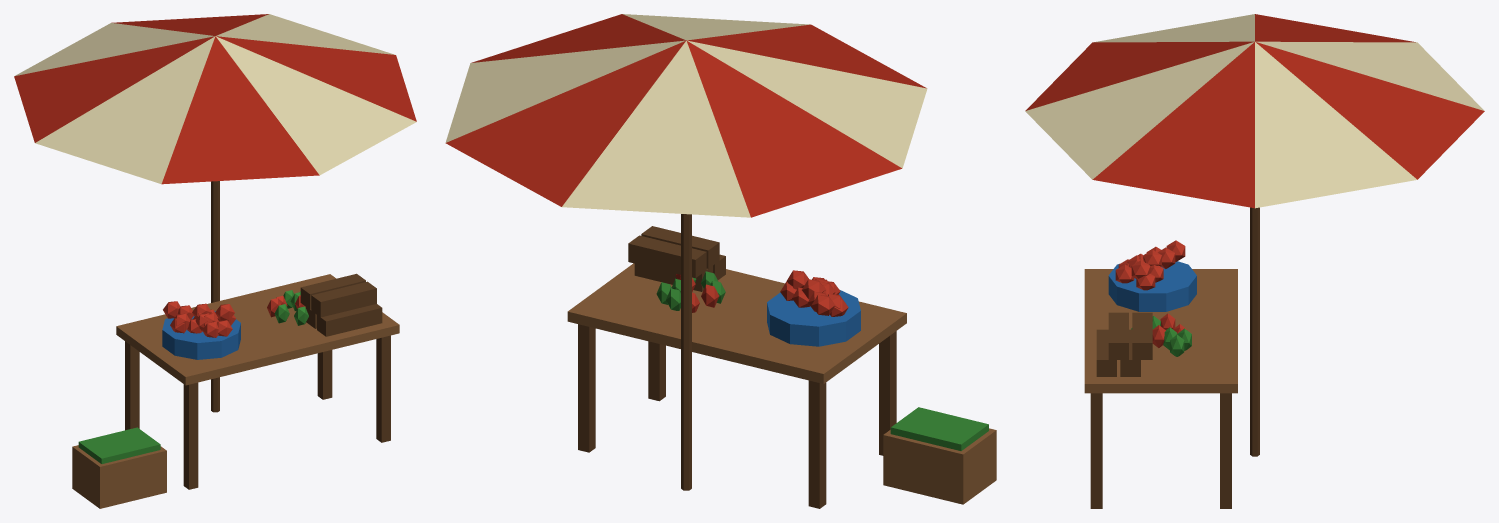
Rendered from prop_stall.3b2676f63b80.glb.
3 views of the same model, side by side, from view 1: azimuth 30°, elevation 25°; view 2: azimuth 150°, elevation 25°; view 3: azimuth 270°, elevation 25° (orthographic). The views are drawn at different scales.
Visible parts, largest first — view 1: body; view 2: body; view 3: body.
Boxes of the visible parts, x1,y1,x2,y2 form: body: (14, 14, 416, 508); body: (445, 14, 996, 508); body: (1025, 14, 1484, 508).
Bounding box in the file's own units: 2.75 × 2.67 × 2.7.
